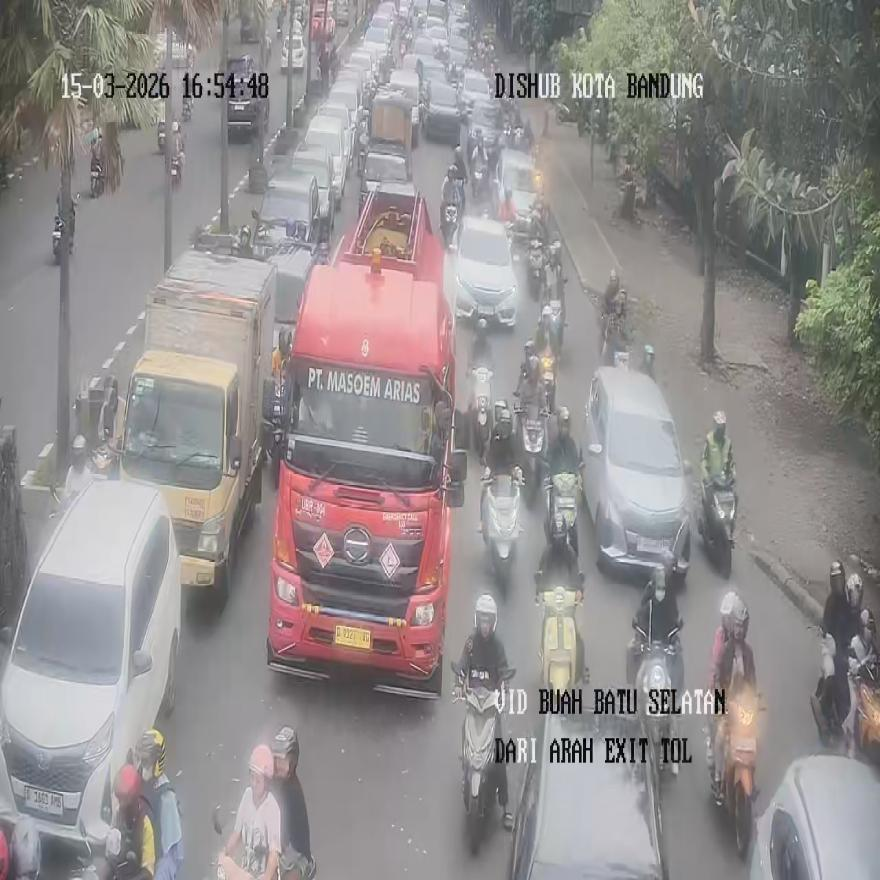Mobil: (0, 478, 181, 858), (114, 243, 274, 603), (507, 712, 668, 878), (584, 364, 691, 578)
Motor: (451, 664, 515, 853), (714, 686, 766, 858), (630, 617, 682, 781), (212, 805, 316, 880), (536, 573, 586, 713), (478, 466, 524, 589), (542, 461, 583, 577), (810, 629, 846, 747), (698, 475, 736, 577), (851, 657, 879, 762), (465, 366, 492, 470), (522, 406, 546, 492), (52, 196, 76, 263), (527, 238, 546, 300), (90, 145, 105, 197), (443, 203, 458, 249), (170, 148, 183, 189), (157, 119, 167, 152), (182, 97, 192, 122)
Truk berat: (262, 185, 465, 694)
